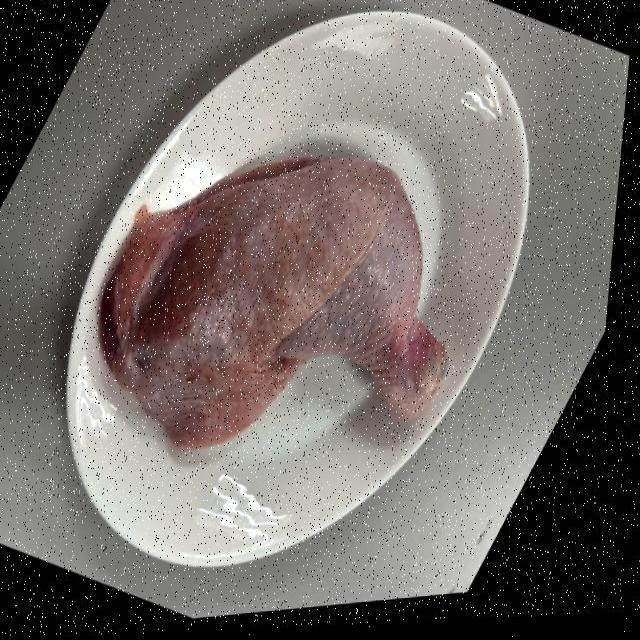quater: (100, 150, 452, 446)
